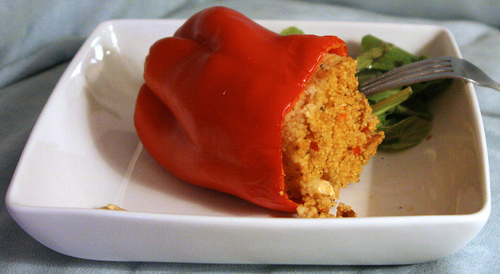capsicum: (132, 6, 354, 215)
